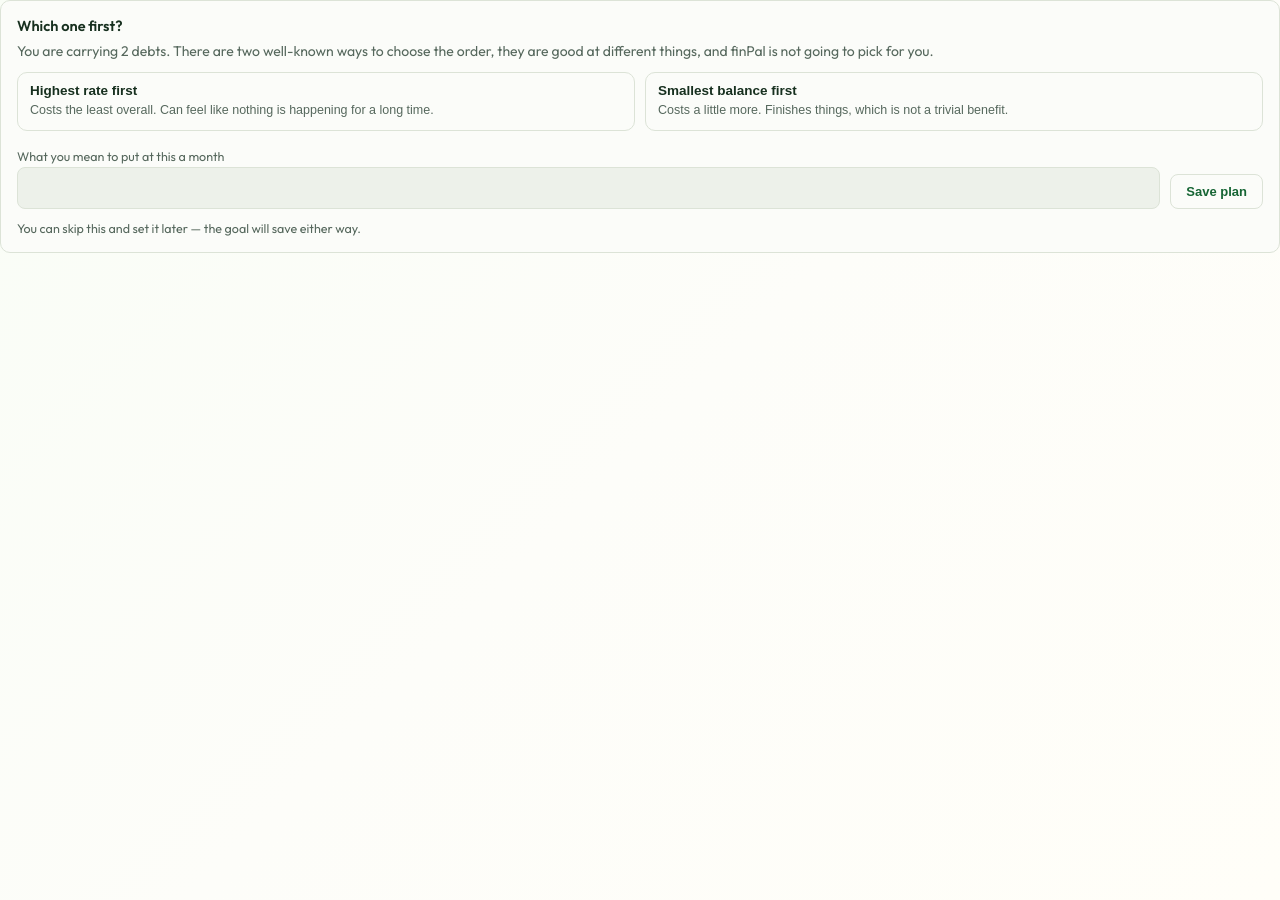
Scenario: writing a plan › says the plan is unchanged when the write fails
Click the radio button with test id "debt-method-avalanche" at (326, 102), box [17, 72, 635, 131]
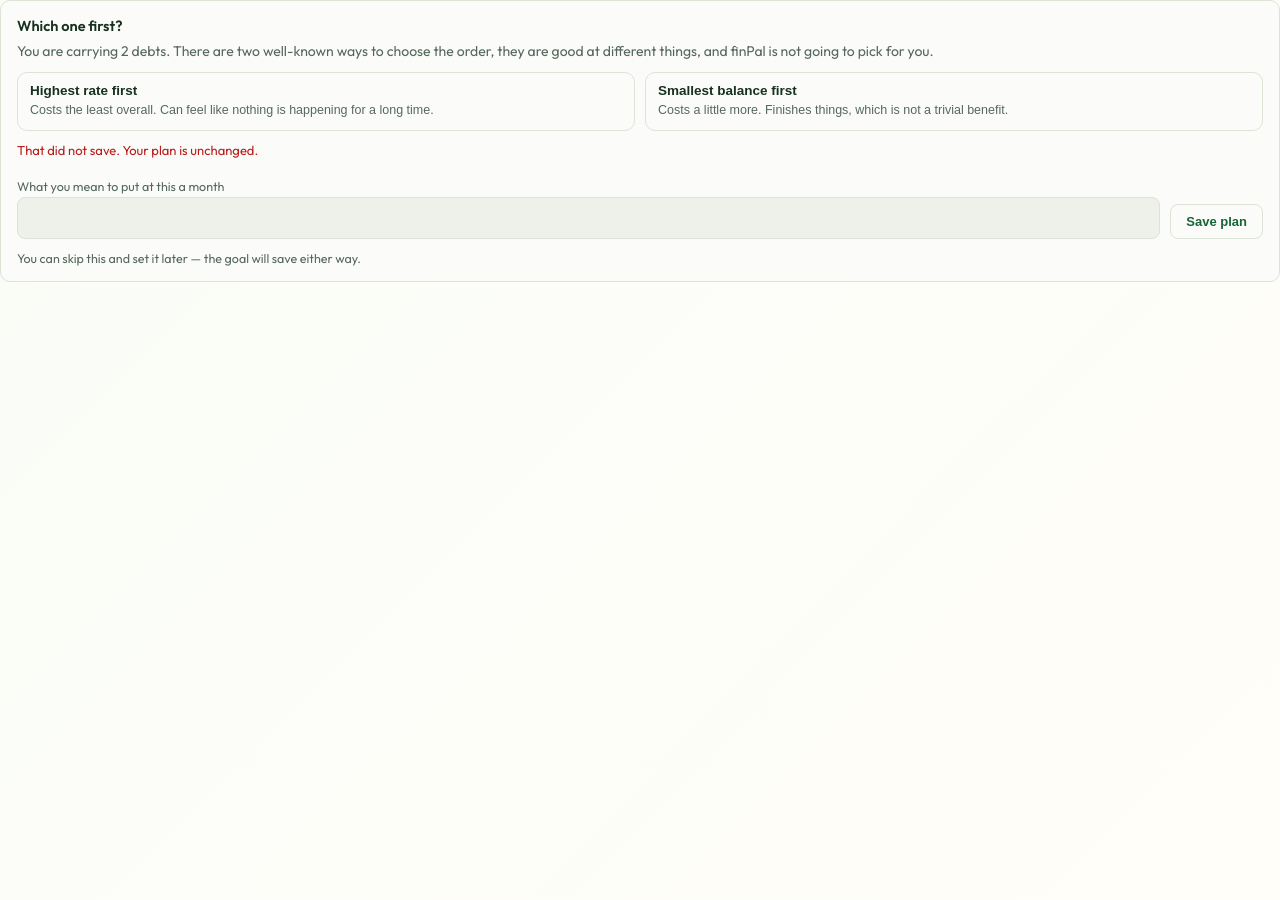
Expected: the text "That did not save. Your plan is unchanged." is shown, [17, 142, 258, 158]
